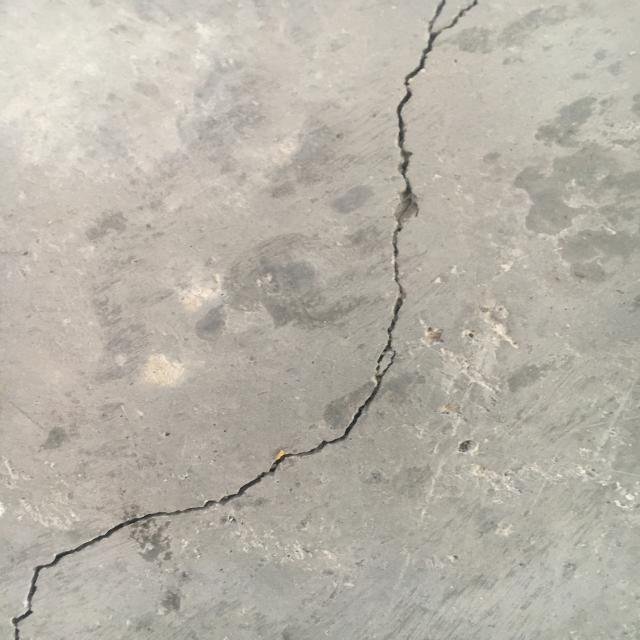SurfaceCrack: (1, 1, 509, 640)
